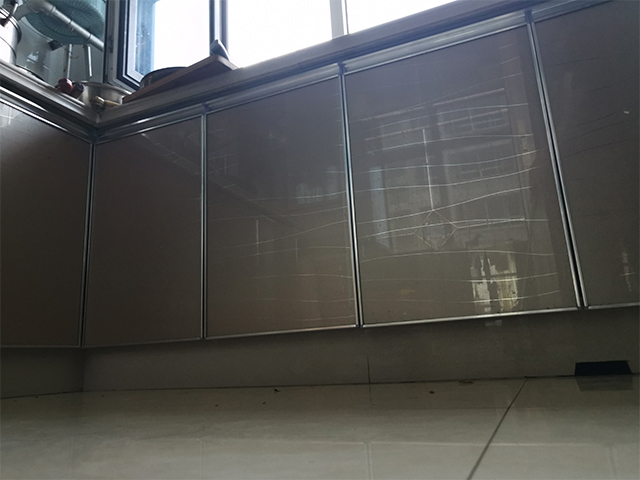cabinet: (86, 19, 640, 388), (1, 60, 88, 396)
